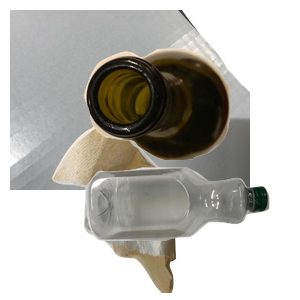cardboard: (10, 10, 250, 190)
glass: (82, 46, 300, 199)
plastic: (83, 165, 300, 300)
trash: (50, 120, 219, 300)
